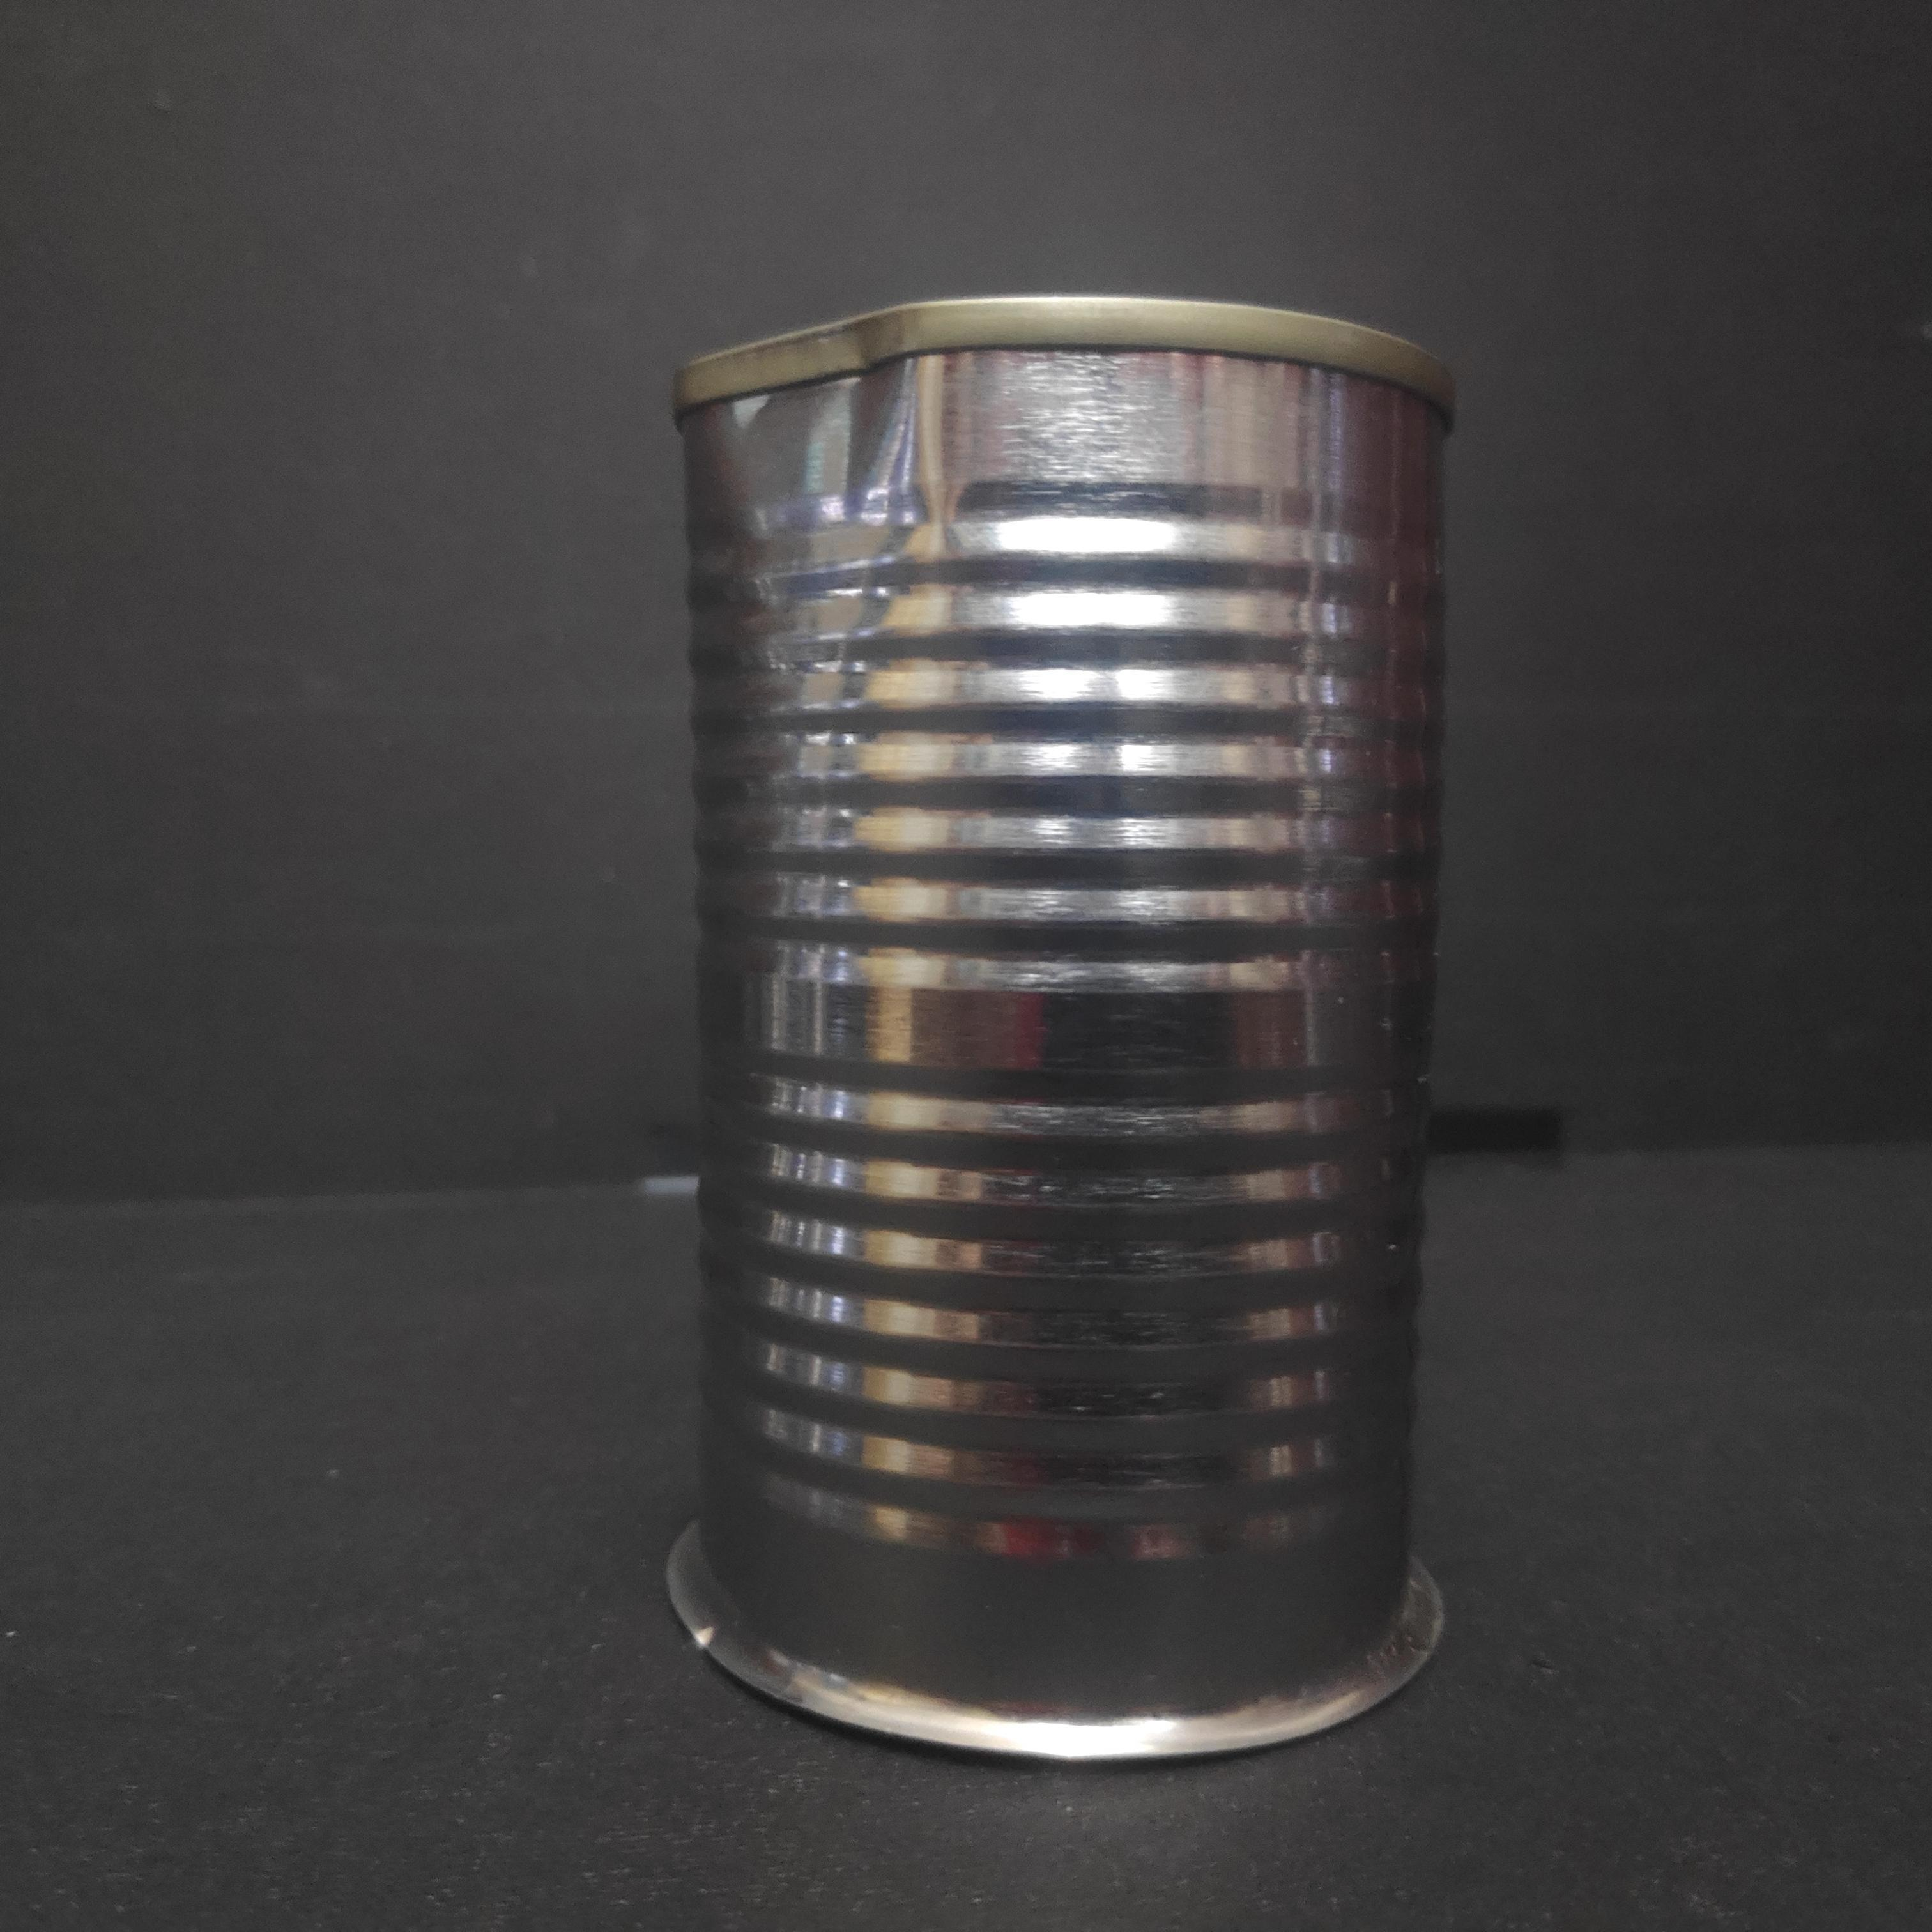Dented: (635, 269, 1483, 1789)
